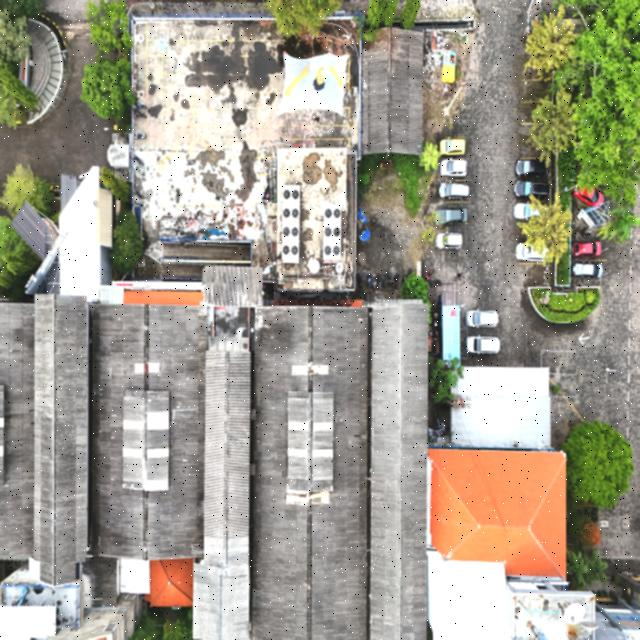Tree: (554, 413, 636, 524), (517, 185, 579, 274), (80, 52, 144, 129), (521, 2, 579, 84), (524, 91, 582, 165), (88, 0, 139, 56), (106, 210, 148, 276), (403, 260, 431, 312), (419, 136, 442, 178)
